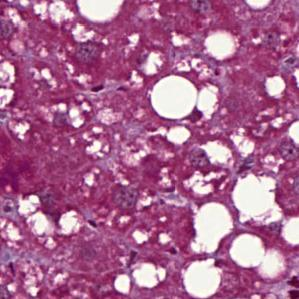ballooning: (229, 170, 288, 230), (227, 231, 290, 285)
